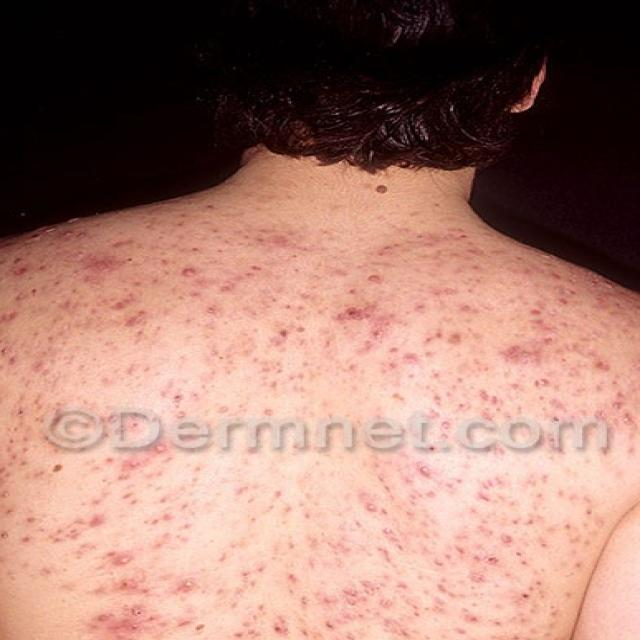Acne: (0, 225, 576, 640)
